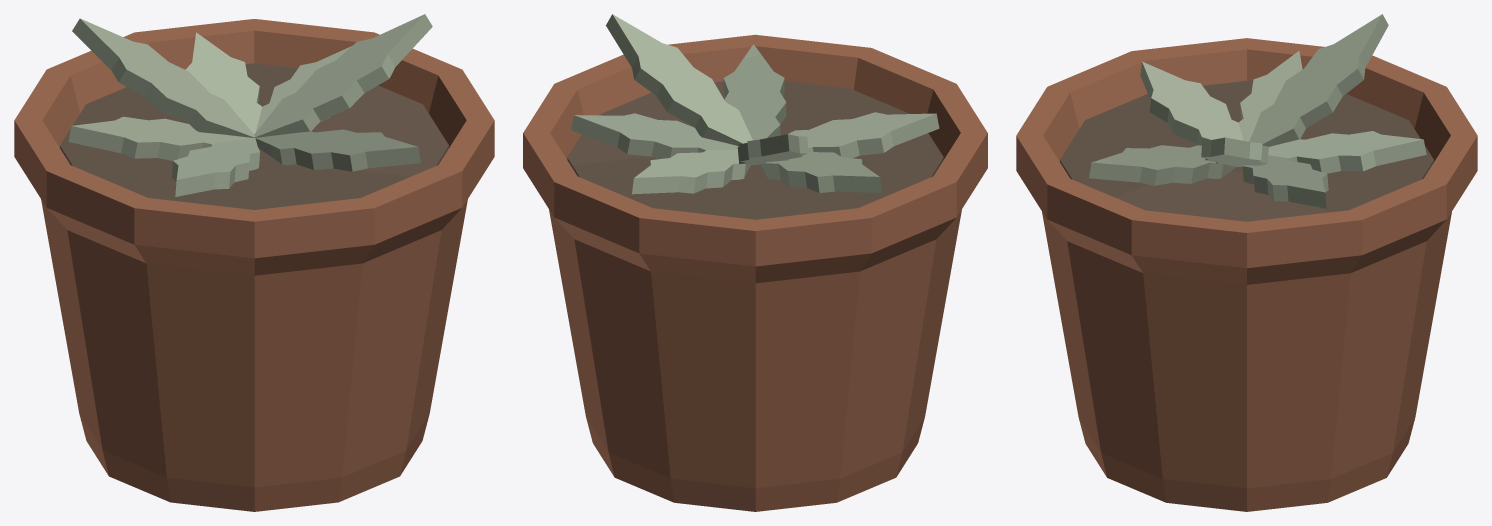
The model's file is new-cristatus.glb.
The picture shows the model from 3 angles, left to right: view 1: azimuth 30°, elevation 25°; view 2: azimuth 150°, elevation 25°; view 3: azimuth 270°, elevation 25°; orthographic projection. The views are drawn at different scales.
Parts seen in each view (by area): view 1: new-cristatus/review-terra-vessel, new-cristatus/review-rooted-soil, new-cristatus/leaf-006, new-cristatus/leaf-007, new-cristatus/leaf-003, new-cristatus/leaf-002, new-cristatus/leaf-005, new-cristatus/leaf-004, new-cristatus/leaf-001; view 2: new-cristatus/review-terra-vessel, new-cristatus/review-rooted-soil, new-cristatus/leaf-006, new-cristatus/leaf-001, new-cristatus/leaf-005, new-cristatus/leaf-003, new-cristatus/leaf-004, new-cristatus/leaf-002, new-cristatus/leaf-007; view 3: new-cristatus/review-terra-vessel, new-cristatus/review-rooted-soil, new-cristatus/leaf-007, new-cristatus/leaf-005, new-cristatus/leaf-004, new-cristatus/leaf-003, new-cristatus/leaf-001, new-cristatus/leaf-002, new-cristatus/leaf-006.
Part boxes in pixels (x1,y1,x2,y2): new-cristatus/review-terra-vessel: (14, 19, 494, 511); new-cristatus/review-rooted-soil: (60, 63, 448, 209); new-cristatus/leaf-006: (254, 14, 432, 137); new-cristatus/leaf-007: (72, 18, 254, 137); new-cristatus/leaf-003: (255, 129, 420, 171); new-cristatus/leaf-002: (68, 116, 251, 160); new-cristatus/leaf-005: (171, 138, 259, 196); new-cristatus/leaf-004: (185, 32, 261, 133); new-cristatus/leaf-001: (255, 46, 351, 132); new-cristatus/review-terra-vessel: (523, 34, 987, 511); new-cristatus/review-rooted-soil: (567, 81, 943, 219); new-cristatus/leaf-006: (606, 14, 752, 145); new-cristatus/leaf-001: (571, 113, 738, 158); new-cristatus/leaf-005: (788, 112, 939, 158); new-cristatus/leaf-003: (723, 44, 786, 140); new-cristatus/leaf-004: (632, 149, 750, 194); new-cristatus/leaf-002: (760, 152, 881, 192); new-cristatus/leaf-007: (737, 134, 808, 165); new-cristatus/review-terra-vessel: (1016, 38, 1477, 511); new-cristatus/review-rooted-soil: (1060, 80, 1433, 221); new-cristatus/leaf-007: (1249, 14, 1388, 146); new-cristatus/leaf-005: (1140, 61, 1243, 145); new-cristatus/leaf-004: (1268, 131, 1426, 173); new-cristatus/leaf-003: (1089, 145, 1236, 185); new-cristatus/leaf-001: (1242, 155, 1328, 208); new-cristatus/leaf-002: (1238, 51, 1302, 141); new-cristatus/leaf-006: (1201, 137, 1268, 166).
Bounding box in the file's own units: 0.19 × 0.1731 × 0.19.
3 materials, 3 textured.
